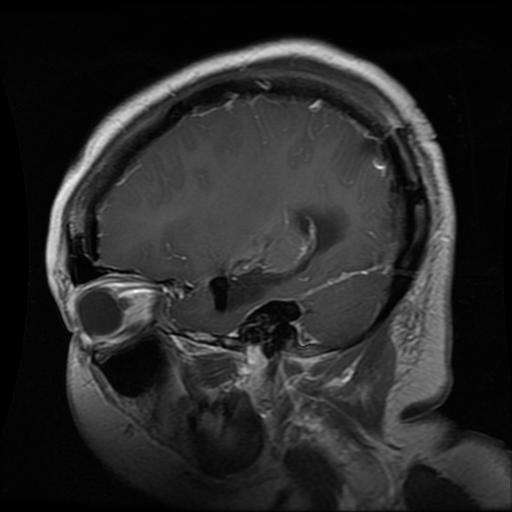Gliomia_tumour: (206, 204, 351, 311)
